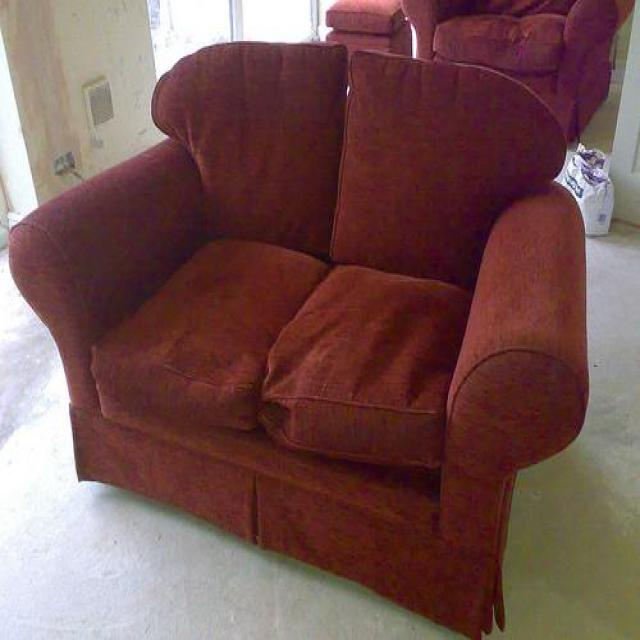sofa: (7, 37, 587, 640)
